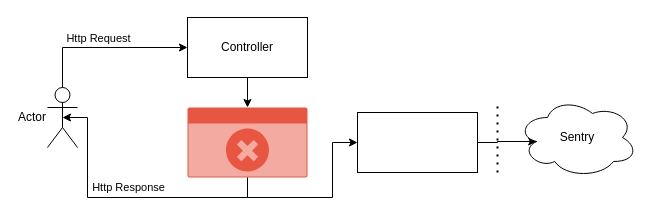
Some shapes in this 655 by 223 pixel diagram are drawn without their labels. Here are the shapes that lost their labels. From the top down, the box of each, then its label:
(187, 107, 307, 177): Error
(356, 112, 478, 172): ErrorTrackerService
